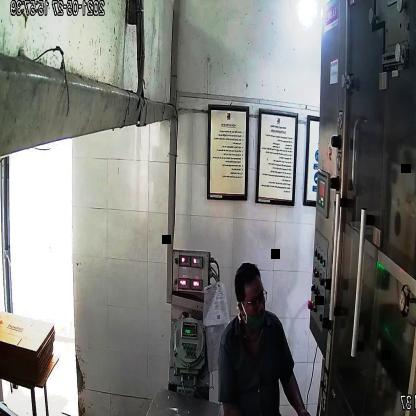goggles: (236, 288, 270, 313)
